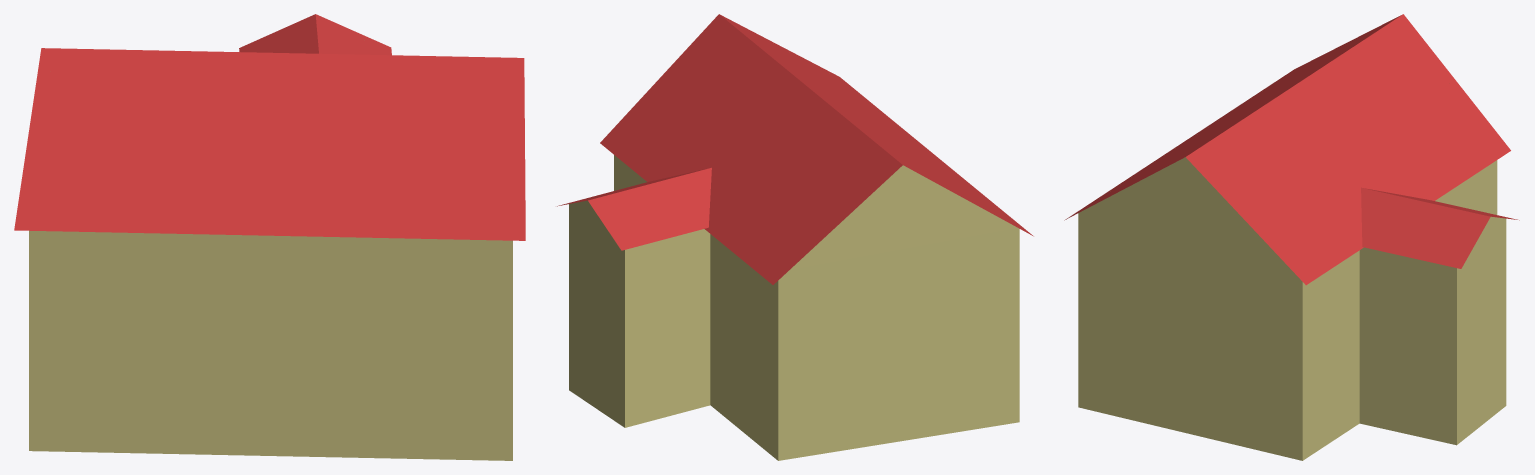
The picture shows the model from 3 angles, left to right: view 1: azimuth 30°, elevation 25°; view 2: azimuth 150°, elevation 25°; view 3: azimuth 270°, elevation 25°; orthographic projection. The views are drawn at different scales.
Size of the model in its own units: 23.23 by 21.42 by 14.53.
